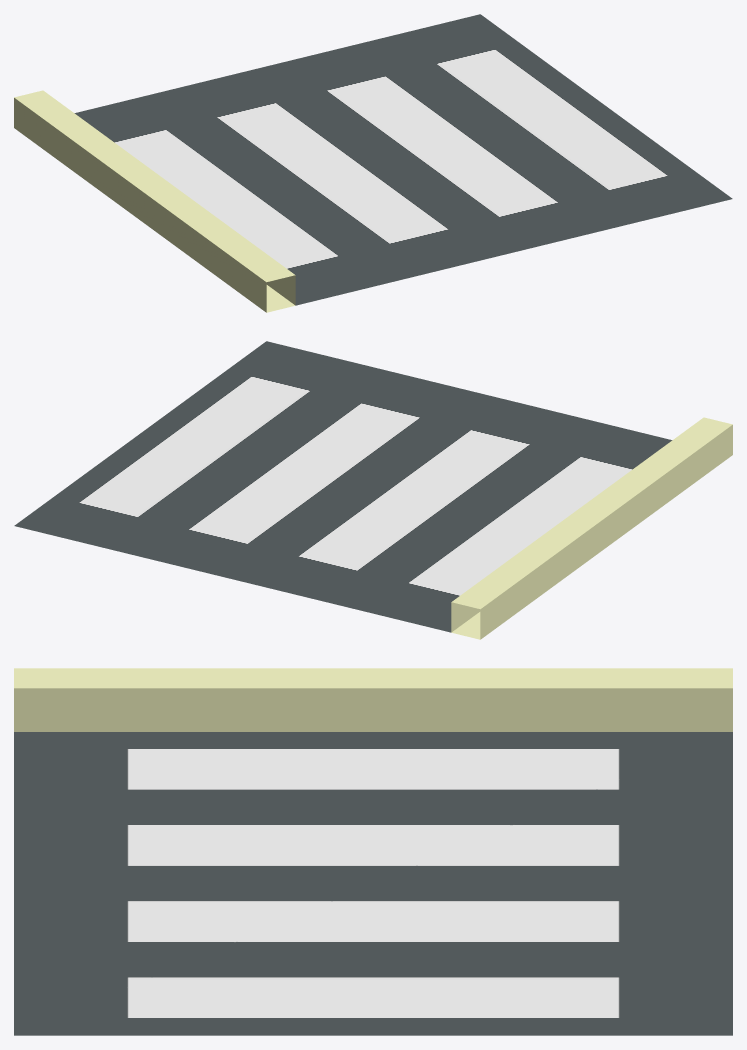
Rendered from road_sidewalk2_flat_left.fbx.
3 renders of one model, top to bottom at view 1: azimuth 30°, elevation 25°; view 2: azimuth 150°, elevation 25°; view 3: azimuth 270°, elevation 25°, orthographic. The views are drawn at different scales.
Parts seen in each view (by area): view 1: pPlane1, pPlane2; view 2: pPlane1, pPlane2; view 3: pPlane1, pPlane2.
Boxes of the visible parts, bbox=[...] form: pPlane1: bbox=[74, 14, 732, 305]; pPlane2: bbox=[14, 90, 295, 312]; pPlane1: bbox=[14, 341, 672, 632]; pPlane2: bbox=[451, 417, 732, 639]; pPlane1: bbox=[14, 732, 732, 1035]; pPlane2: bbox=[14, 668, 732, 731].
Bounding box in the file's own units: 107 × 6.67 × 100.
